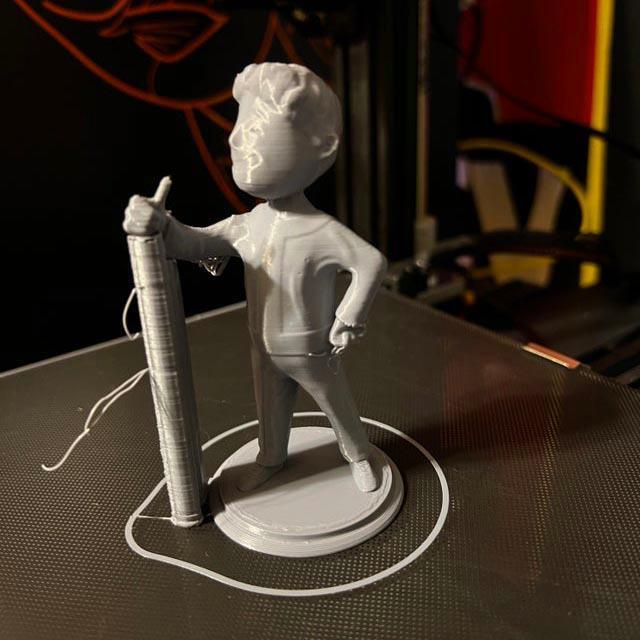spaghetti: (39, 365, 153, 474), (122, 286, 144, 342), (195, 253, 233, 282)
